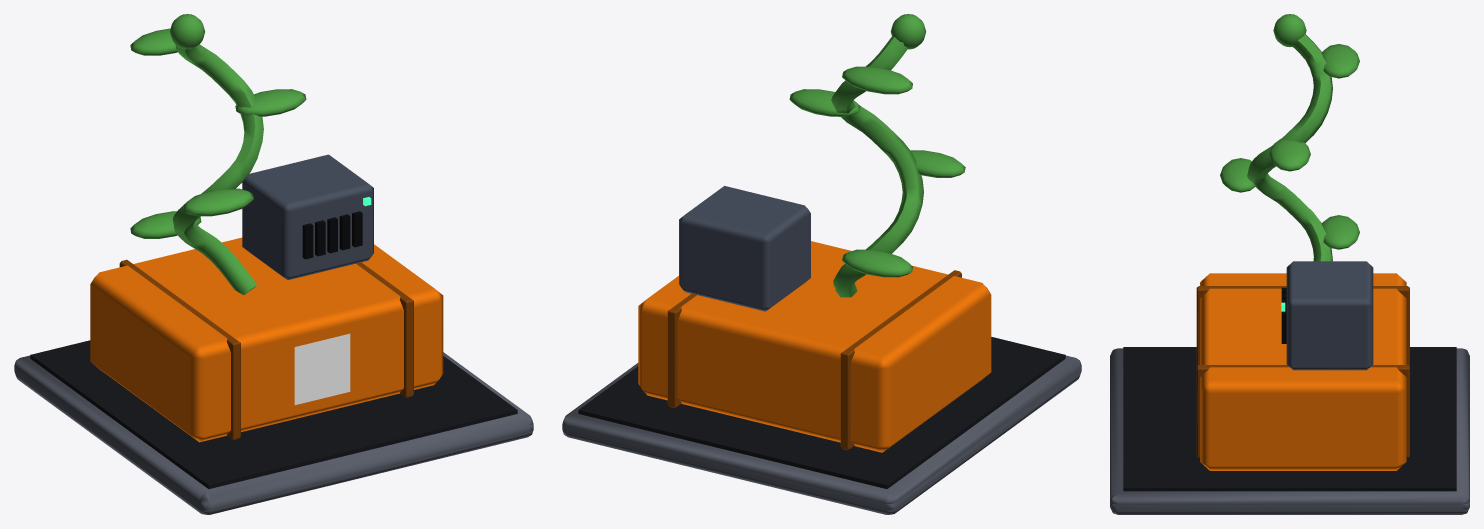
The model's file is beanstalk.glb.
3 renders of one model, left to right at view 1: azimuth 30°, elevation 25°; view 2: azimuth 150°, elevation 25°; view 3: azimuth 270°, elevation 25°, orthographic. The views are drawn at different scales.
Visible parts, largest first — view 1: body.accent, body.rubber, body.concrete, body.steel, body.leaf, body.badge, body.accent_dark, body.vent; view 2: body.accent, body.rubber, body.concrete, body.steel, body.leaf, body.accent_dark; view 3: body.accent, body.rubber, body.concrete, body.steel, body.leaf, body.accent_dark.
Boxes of the visible parts, x1,y1,x2,y2 form: body.accent: (90,237,443,442); body.rubber: (30,340,517,488); body.concrete: (14,352,533,514); body.steel: (242,154,373,280); body.leaf: (130,14,306,294); body.badge: (294,333,350,404); body.accent_dark: (119,259,413,439); body.vent: (302,211,362,259); body.accent: (638,241,991,452); body.rubber: (578,337,1065,488); body.concrete: (562,355,1081,514); body.steel: (679,186,810,311); body.leaf: (789,14,965,297); body.accent_dark: (667,270,961,450); body.accent: (1200,273,1406,470); body.rubber: (1123,347,1456,491); body.concrete: (1110,348,1469,514); body.steel: (1286,261,1373,370); body.leaf: (1220,14,1359,261); body.accent_dark: (1196,286,1409,457).
Size of the model in its own units: 1.08 by 1.28 by 1.08.
